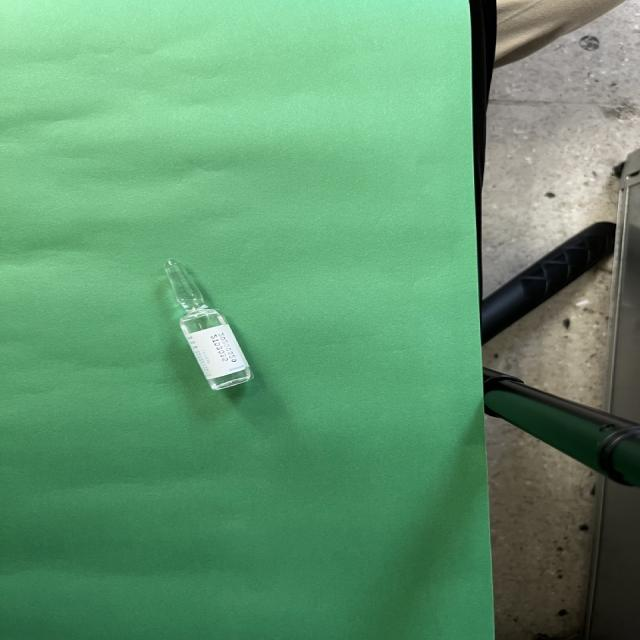Ampoules: (165, 259, 254, 391)
